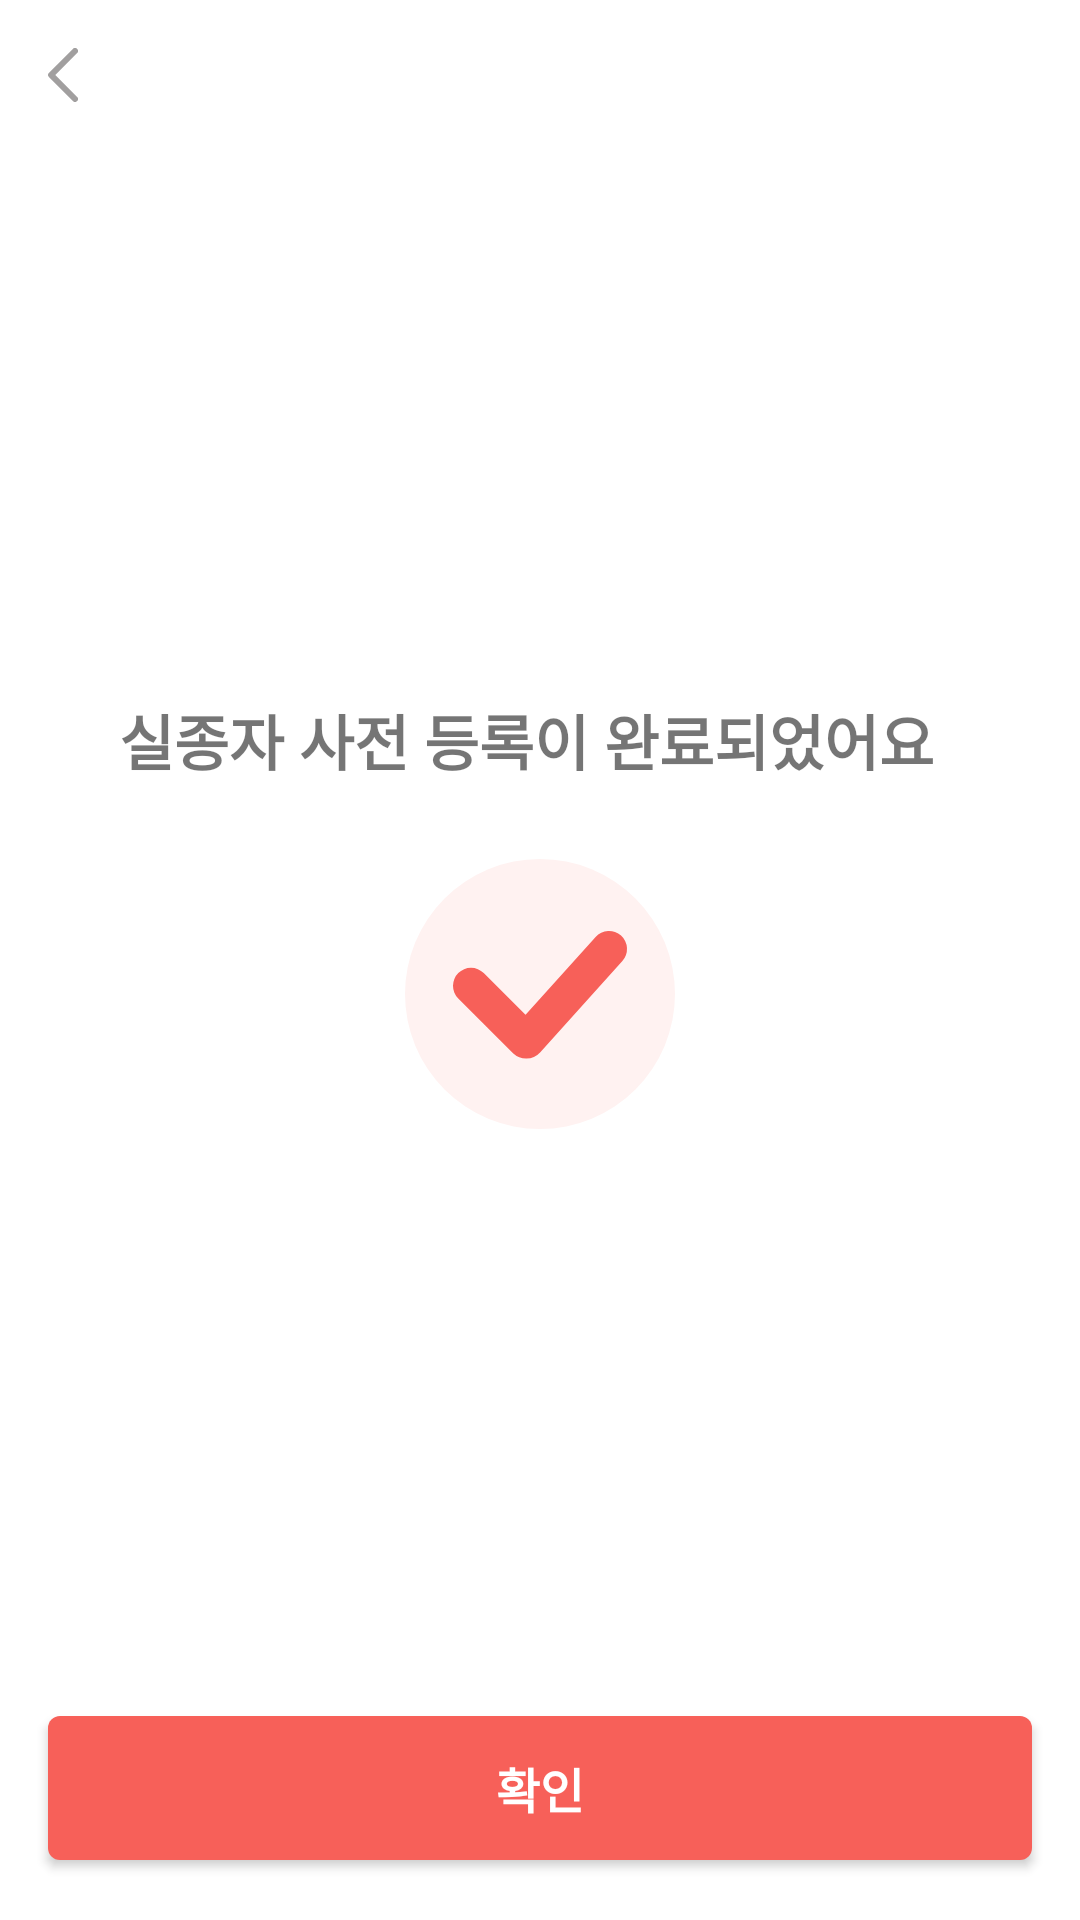

Icons on this 1080px×1920px Android screen, each with its box as detection(x1, y1, x2, y2):
back: detection(48, 48, 78, 102)
join check: detection(405, 859, 675, 1129)
